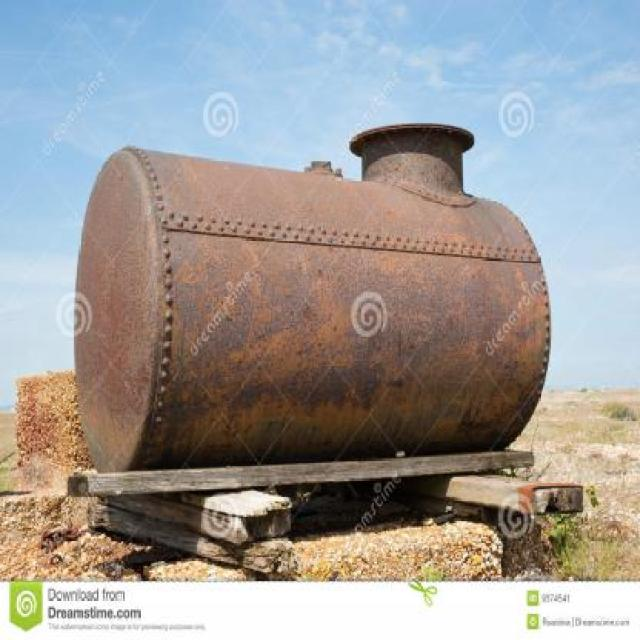corrosion: (72, 110, 554, 450)
